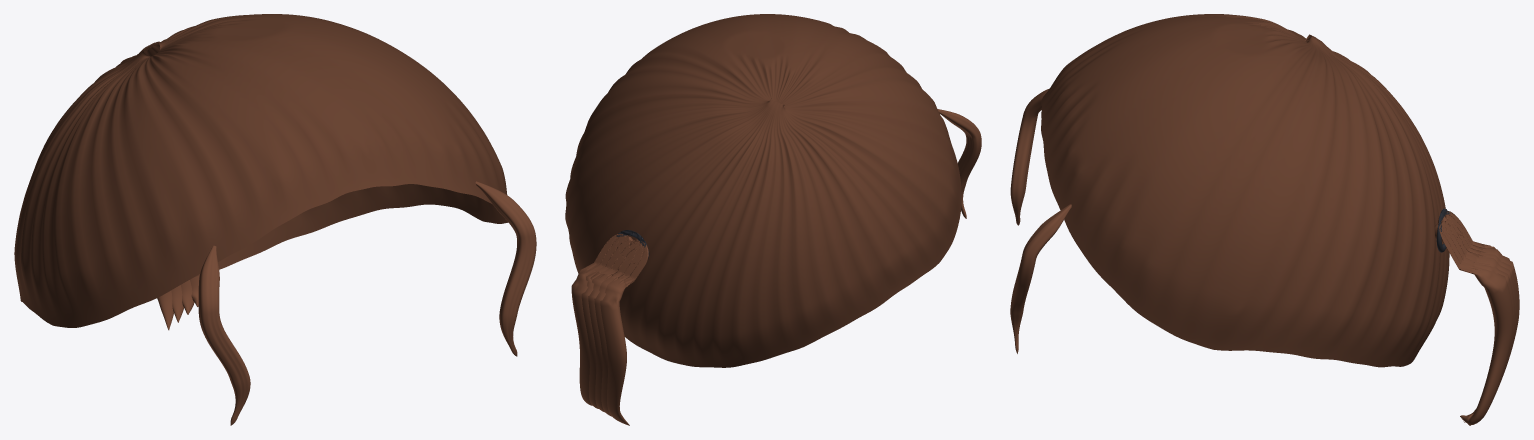
The model's file is ponytail-bucket-default.glb.
3 renders of one model, left to right at view 1: azimuth 30°, elevation 25°; view 2: azimuth 150°, elevation 25°; view 3: azimuth 270°, elevation 25°, orthographic. The views are drawn at different scales.
Parts seen in each view (by area): view 1: 226 hair / Hair / crisp pulled roots220.002, 226 hair / Hair / sculpted front locks222.002, 226 hair / Hair / chestnut226.001; view 2: 226 hair / Hair / crisp pulled roots220.002, 226 hair / Hair / chestnut226.001, 226 hair / Hair / sculpted front locks222.002; view 3: 226 hair / Hair / crisp pulled roots220.002, 226 hair / Hair / chestnut226.001, 226 hair / Hair / sculpted front locks222.002.
Part boxes in pixels (<box>): 226 hair / Hair / crisp pulled roots220.002: <box>14,14,507,327</box>; 226 hair / Hair / sculpted front locks222.002: <box>198,181,536,425</box>; 226 hair / Hair / chestnut226.001: <box>157,275,199,330</box>; 226 hair / Hair / crisp pulled roots220.002: <box>565,14,961,367</box>; 226 hair / Hair / chestnut226.001: <box>571,233,648,425</box>; 226 hair / Hair / sculpted front locks222.002: <box>937,109,981,218</box>; 226 hair / Hair / crisp pulled roots220.002: <box>1041,14,1449,367</box>; 226 hair / Hair / chestnut226.001: <box>1434,211,1519,425</box>; 226 hair / Hair / sculpted front locks222.002: <box>1010,89,1071,353</box>.
Bounding box in the file's own units: 0.7726 × 0.6856 × 0.854.
